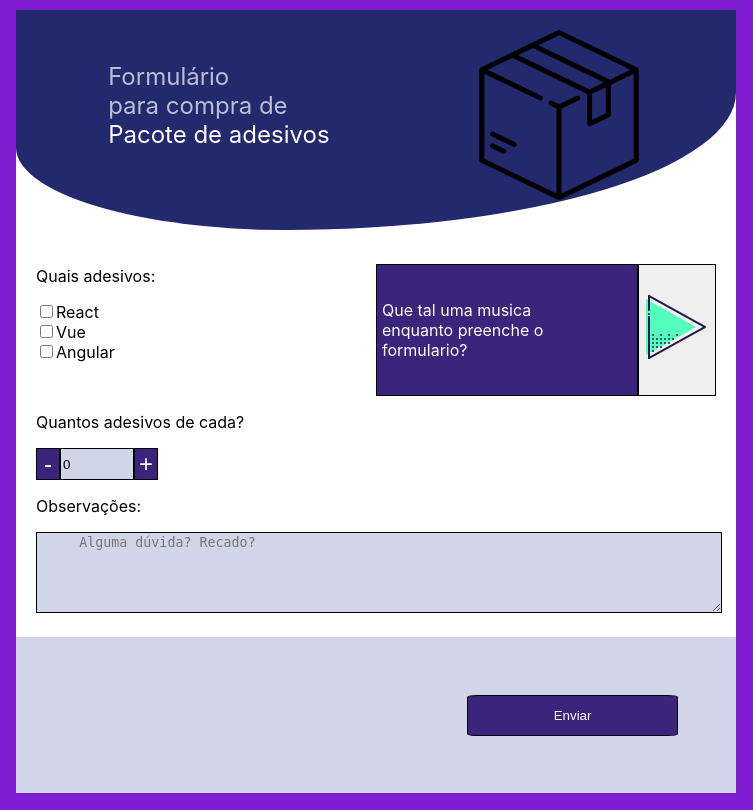
Test case: Testa MusicCard e MusicChoice › testa se ao clicar no musicButton a musicDiv e o musicButton não são renderizados
Step 1. Click the button with test id "musicButton" → (677,330), box x1=638 y1=264 x2=716 y2=396
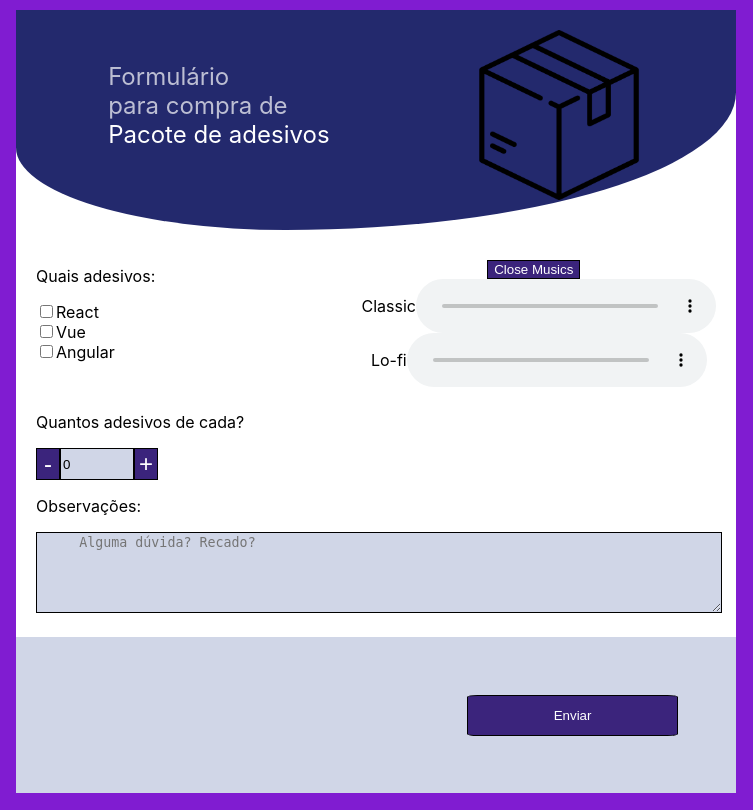
Check: the element with test id "musicDiv" is gone
Check: the button with test id "musicButton" is gone
